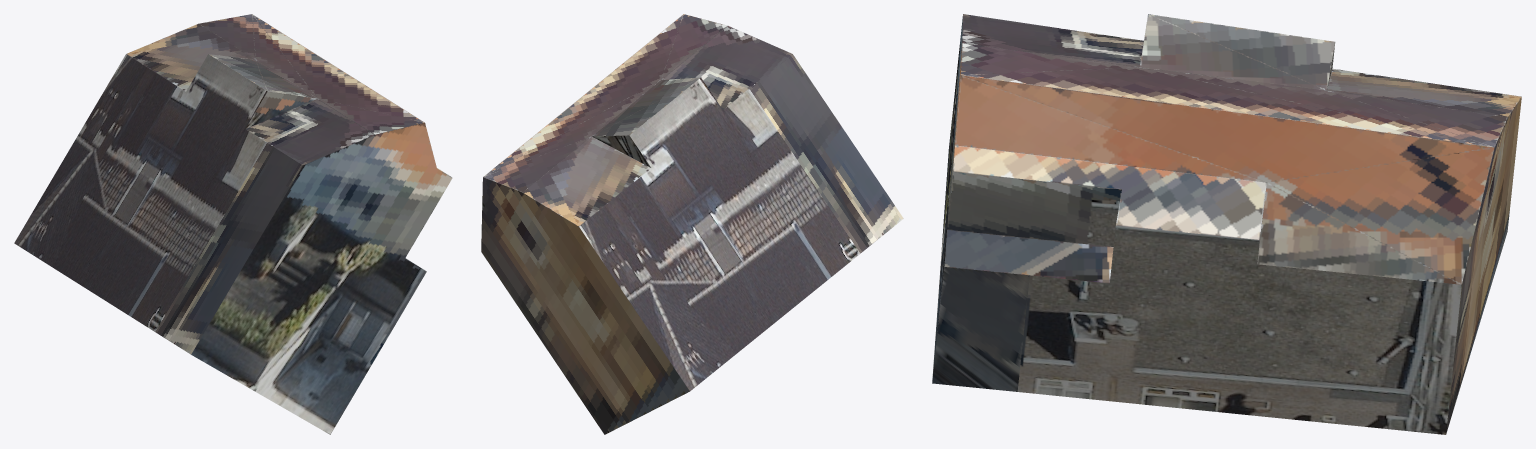
3 views of the same model, side by side, from view 1: azimuth 30°, elevation 25°; view 2: azimuth 150°, elevation 25°; view 3: azimuth 270°, elevation 25° (orthographic). The views are drawn at different scales.
Visible parts, largest first — view 1: BAG_0599100000760478 (×4); view 2: BAG_0599100000760478 (×4); view 3: BAG_0599100000760478 (×4).
Boxes of the visible parts, <box> form: BAG_0599100000760478 (×4): <box>14,14,452,434</box>; BAG_0599100000760478 (×4): <box>481,14,903,434</box>; BAG_0599100000760478 (×4): <box>932,14,1521,434</box>.
Bounding box in the file's own units: 12.43 × 12.7 × 16.03.
Materials: 5 (5 with a texture image).
